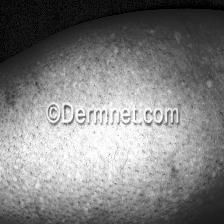Benign Marking or Mole: (0, 127, 193, 222)
